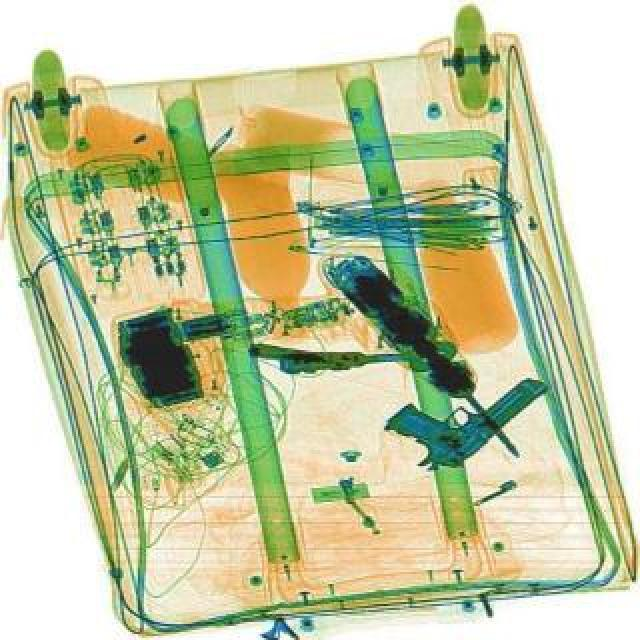gun: (376, 326, 546, 486), (246, 324, 414, 380)
